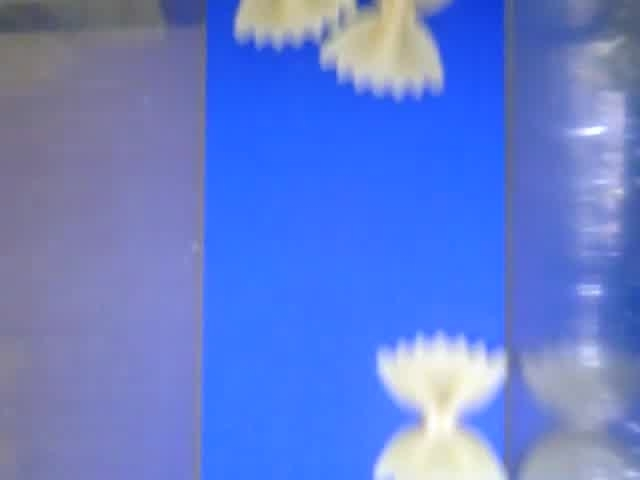farfalle: (376, 332, 510, 480), (318, 1, 445, 95), (234, 1, 357, 47)
